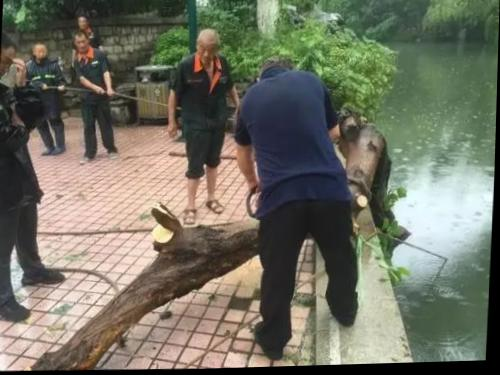Downstairs: (35, 121, 390, 374), (164, 7, 395, 150)
